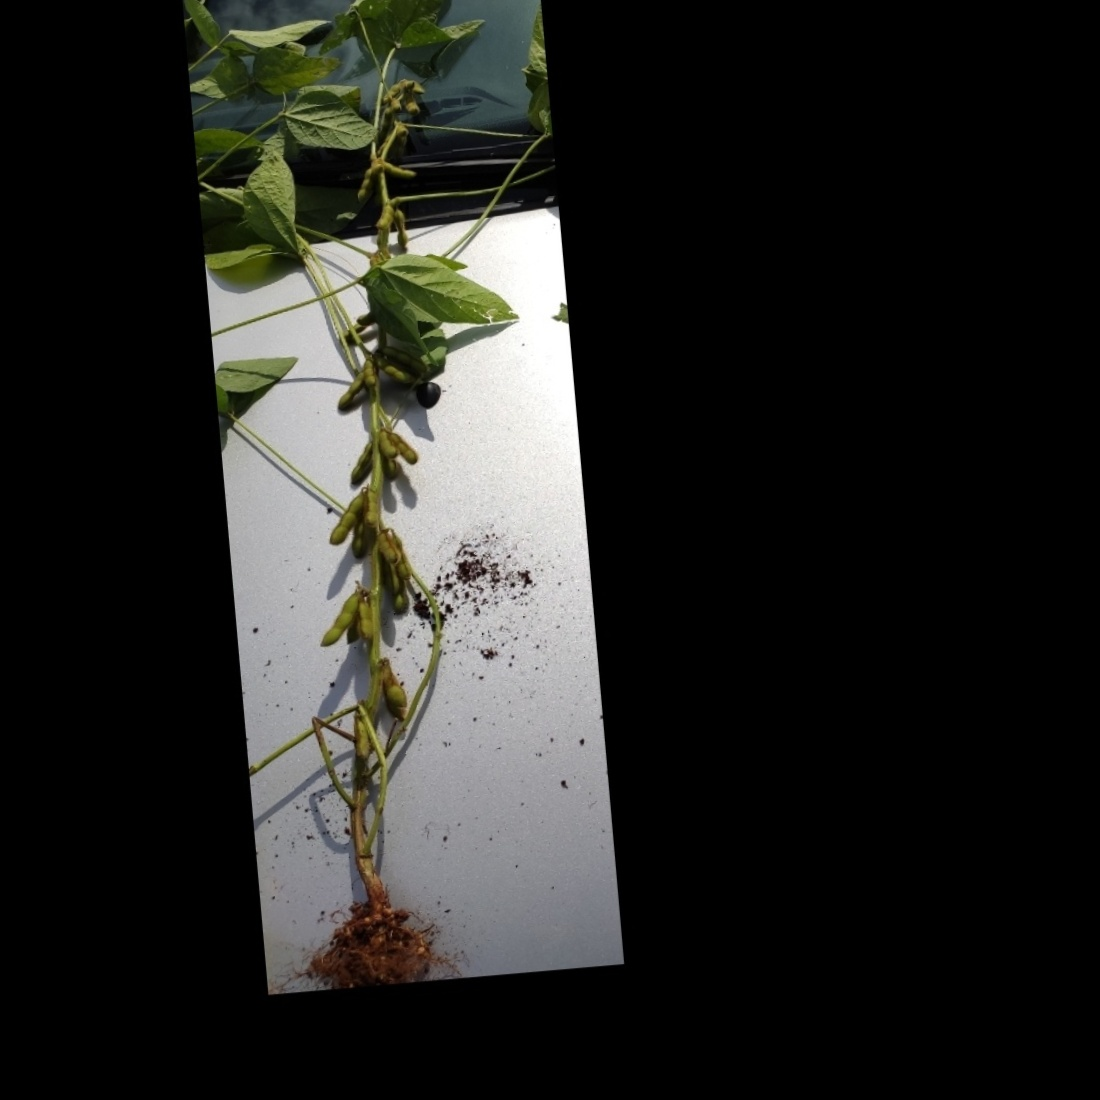pod: (323, 488, 376, 548), (312, 588, 365, 649), (372, 353, 424, 393), (376, 342, 430, 378), (334, 440, 376, 486), (377, 659, 410, 712), (384, 557, 411, 618), (384, 425, 422, 468), (333, 369, 372, 409), (350, 162, 382, 207), (378, 154, 419, 182), (359, 479, 381, 532), (374, 524, 400, 568), (375, 427, 403, 464), (373, 197, 400, 234), (393, 208, 413, 253), (360, 350, 380, 390)
soy: (196, 0, 612, 978)
